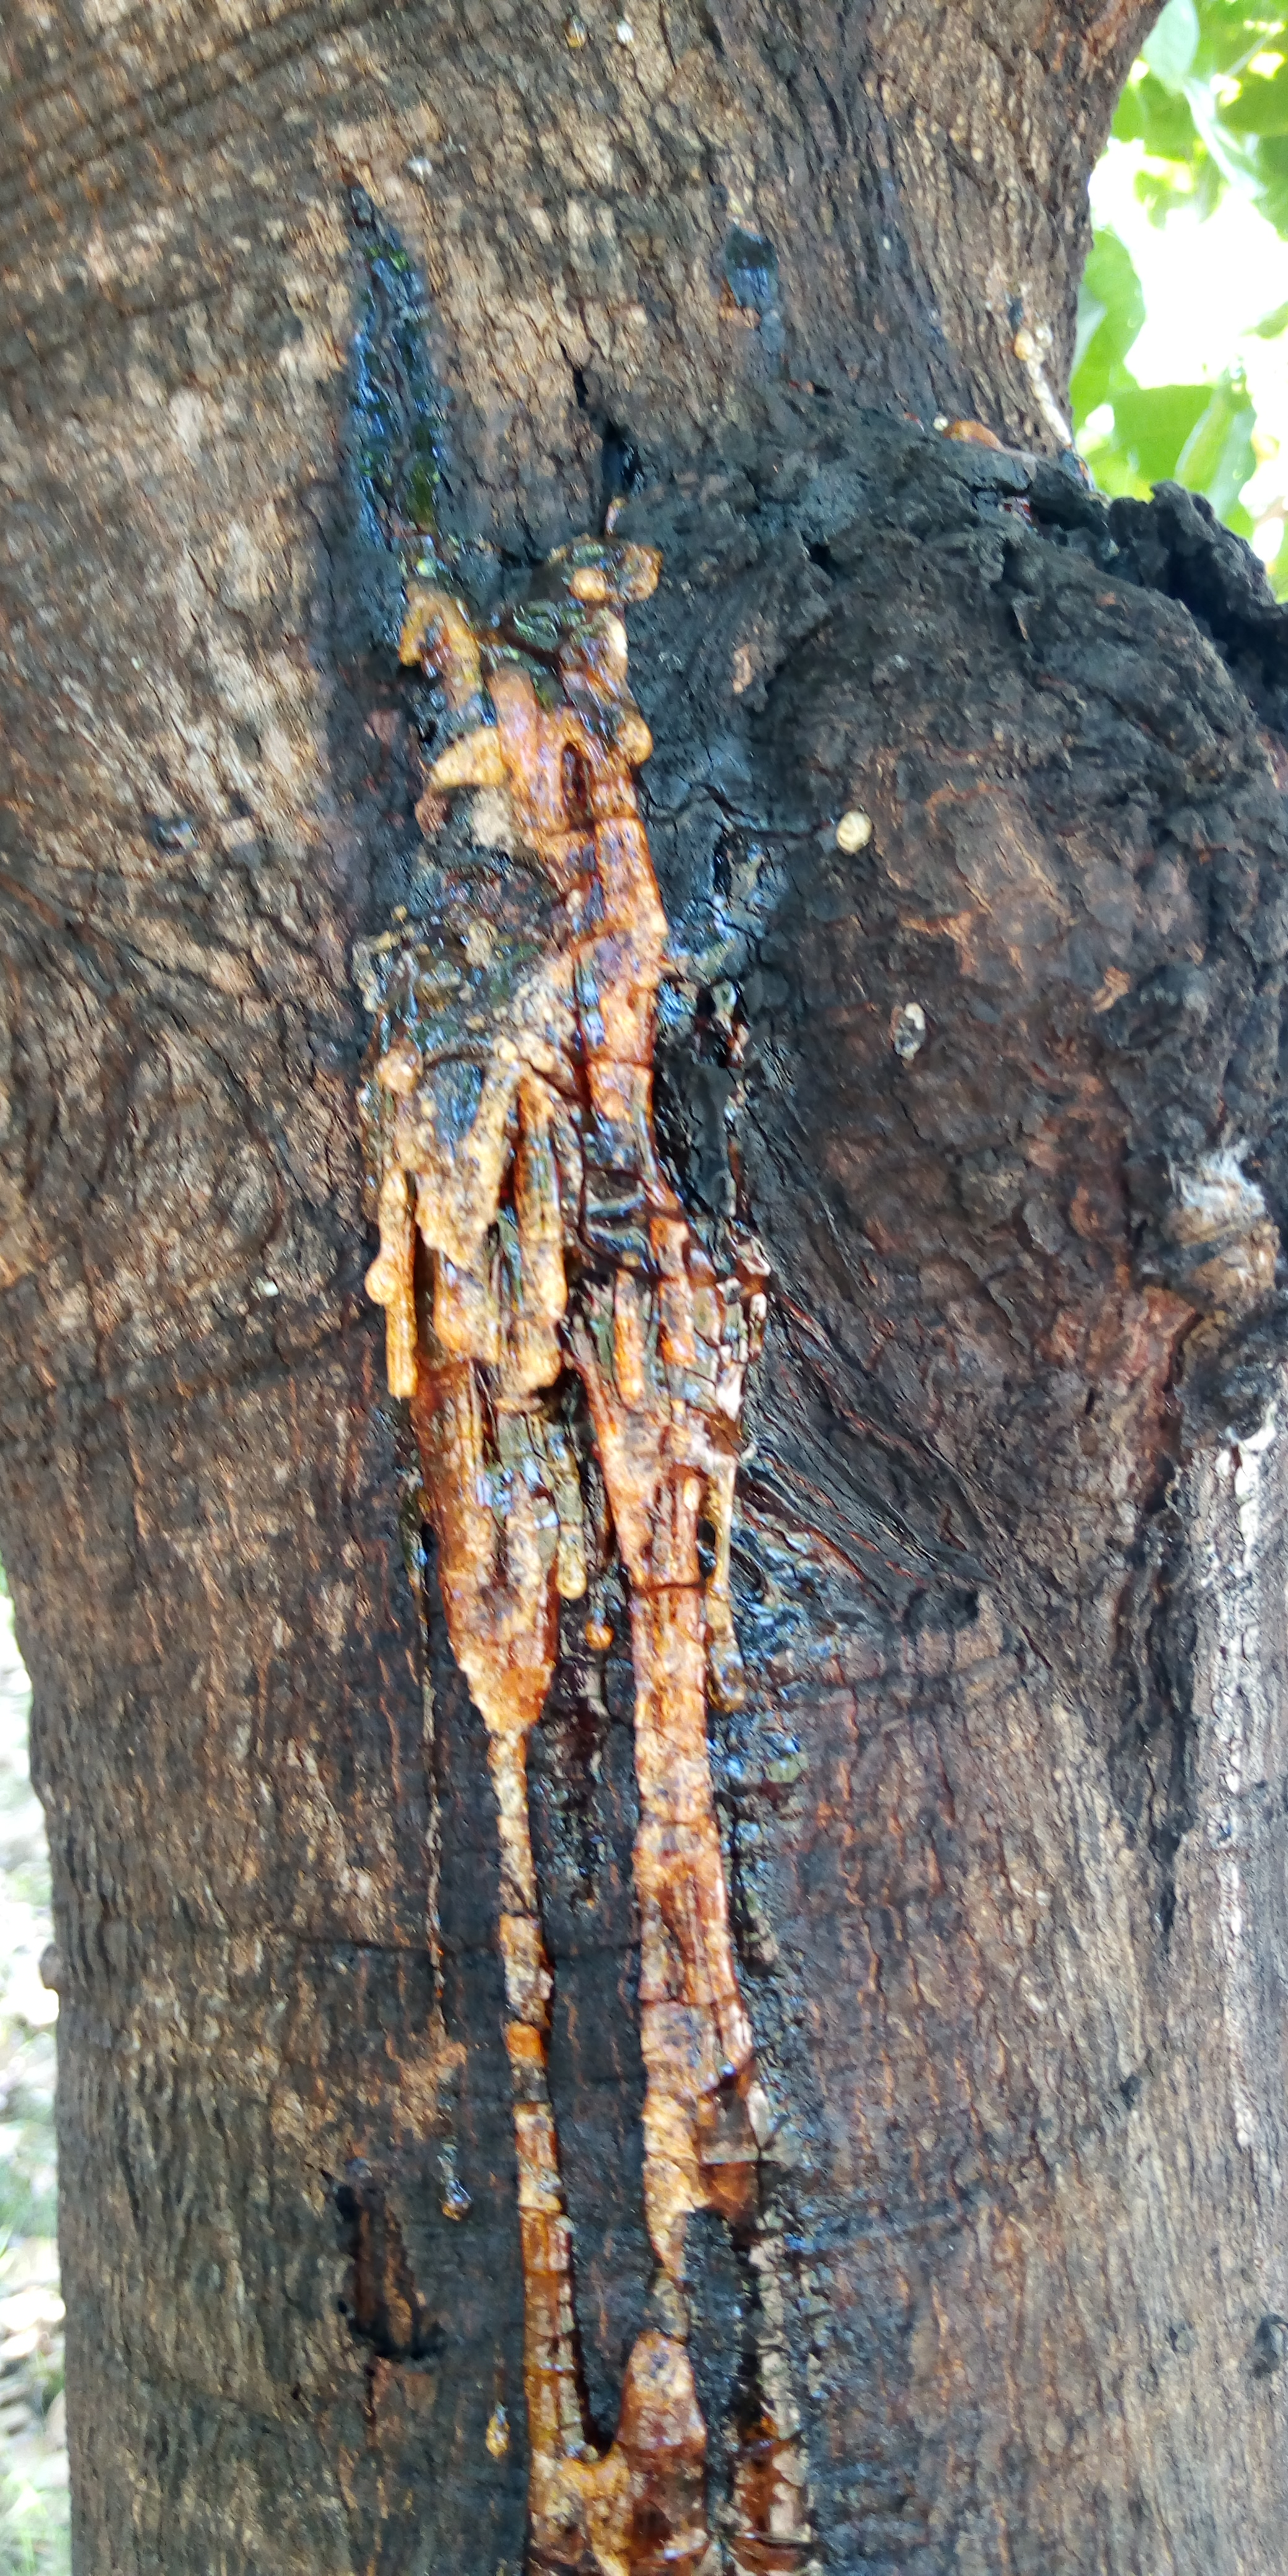Gommose: (264, 194, 882, 2576)
